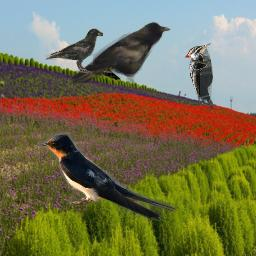Crow: (72, 21, 171, 83), (45, 28, 103, 73)
Swallow: (37, 130, 179, 221)
Woodpecker: (185, 43, 213, 115)
